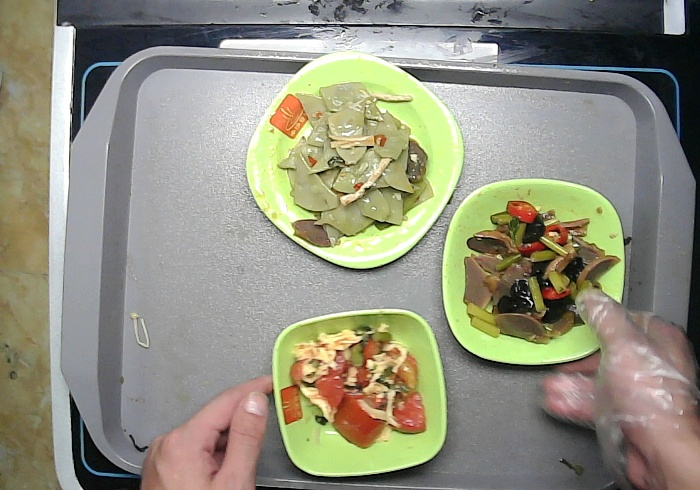SHKJ-Lv_Se_Cai_Die: (435, 176, 631, 372)
SHKJ-Lv_Se_Si_Fang_Cai_Die: (236, 46, 466, 274)
SHKJ-Lv_Se_Xiao_Fang_Die: (267, 305, 450, 481)
